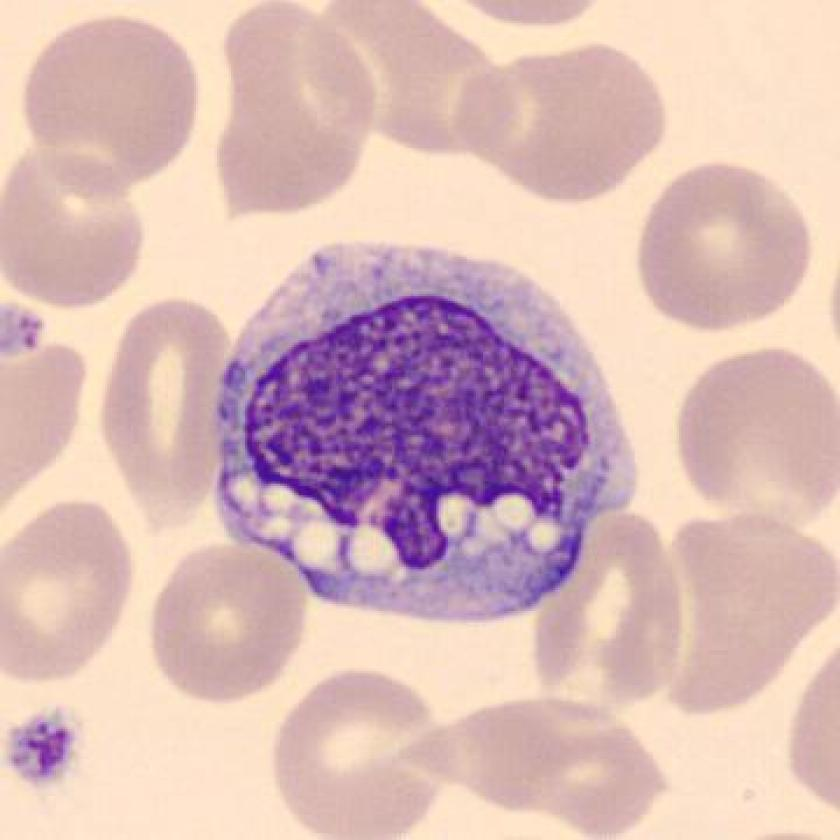monocyte: (202, 217, 657, 645)
